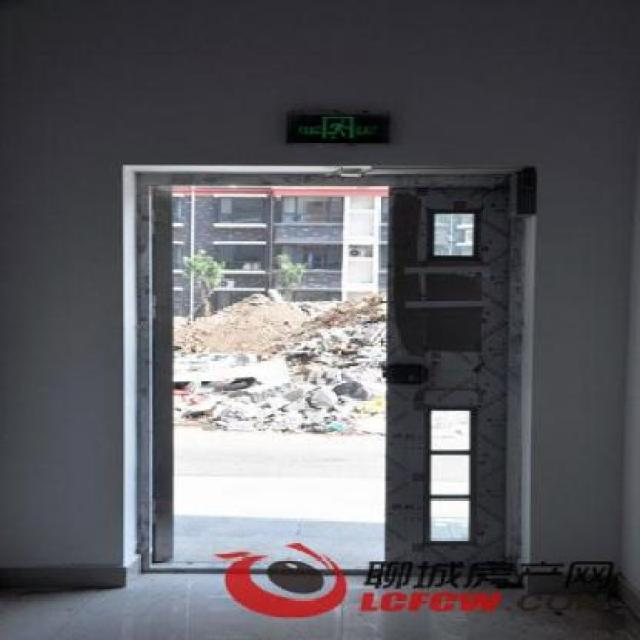exit_sign: (274, 108, 398, 144)
